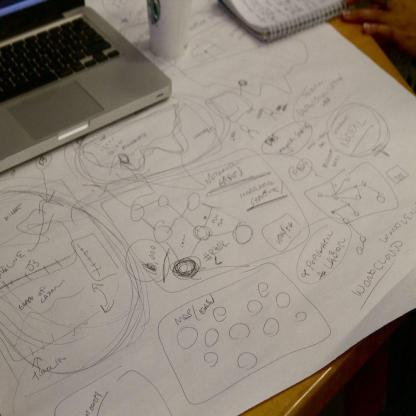board: (0, 0, 172, 170)
